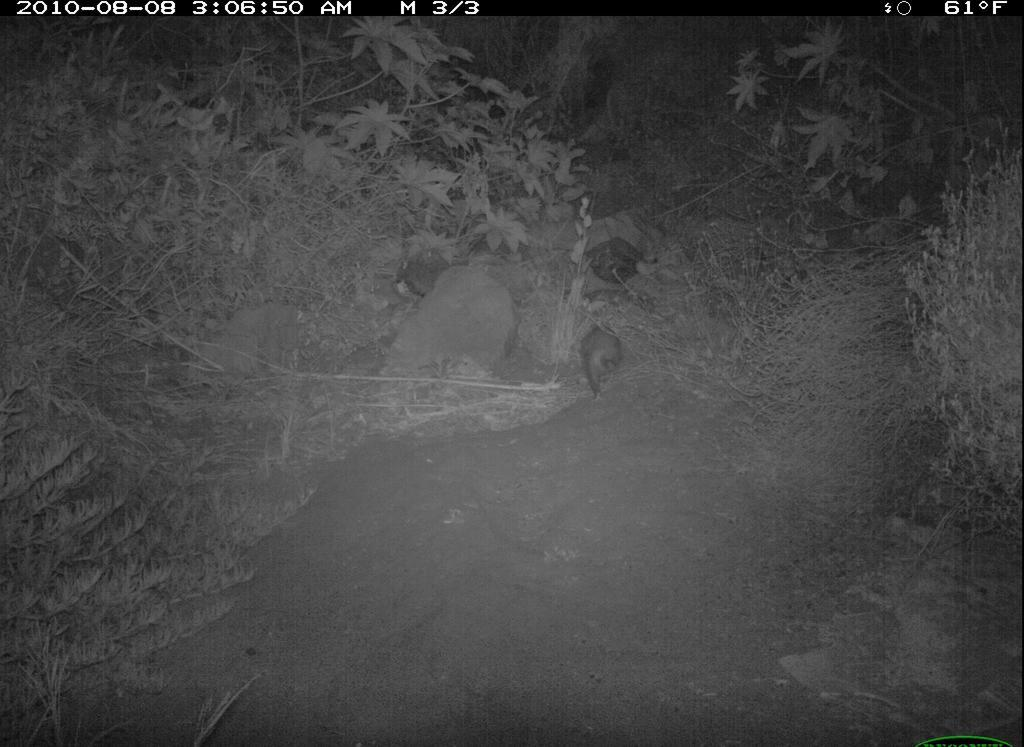opossum: (561, 299, 641, 413)
